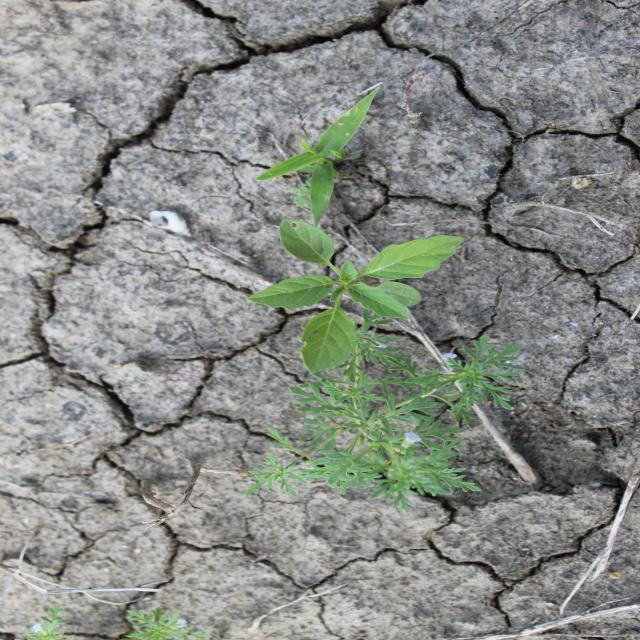CutleafGroundcherry: (244, 217, 468, 376)
Ragweed: (236, 307, 528, 514), (123, 606, 212, 639), (20, 604, 75, 639)
